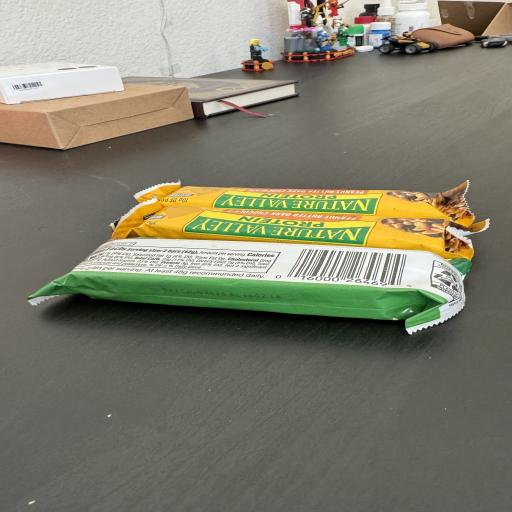granola: (29, 239, 464, 333), (113, 157, 488, 259), (136, 182, 474, 225)
